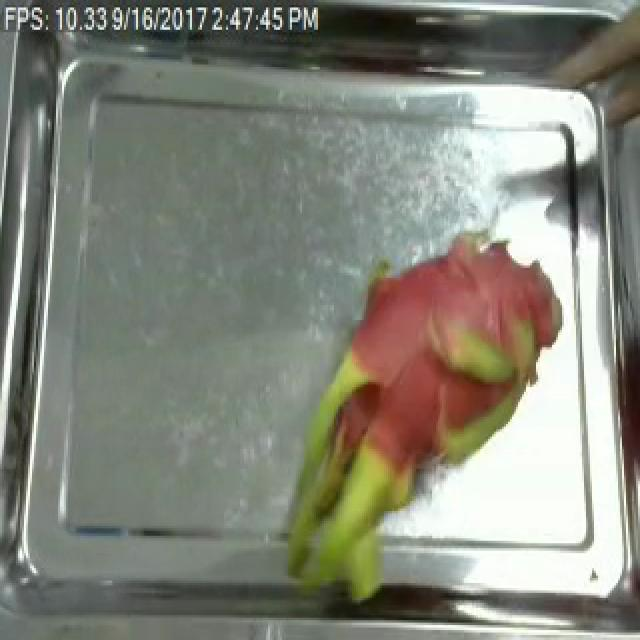fruit: (254, 208, 610, 623)
